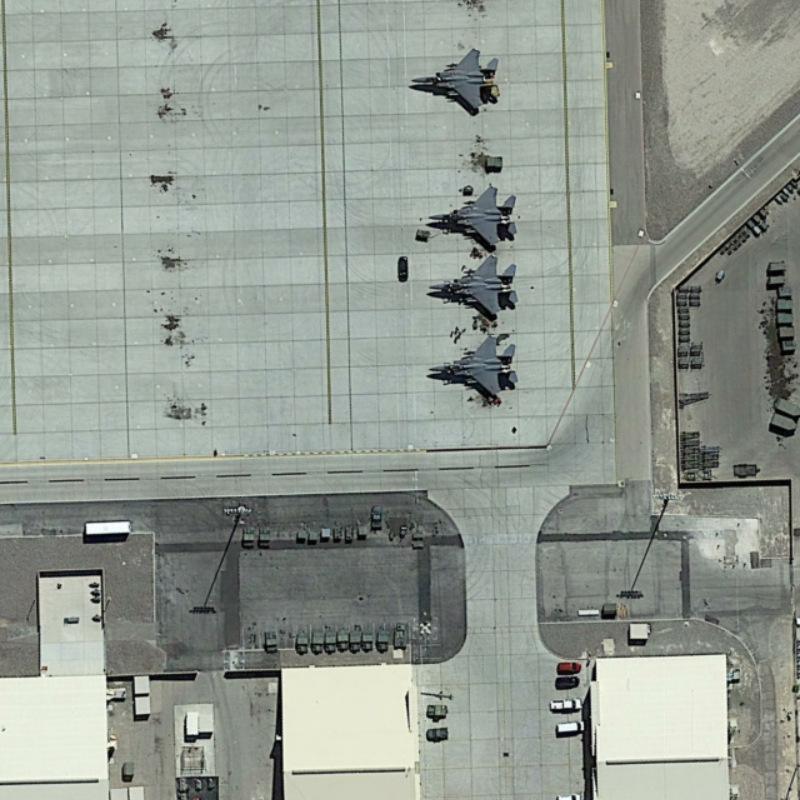A13: (405, 41, 508, 122), (423, 330, 526, 410), (421, 255, 533, 327), (423, 181, 521, 255)
